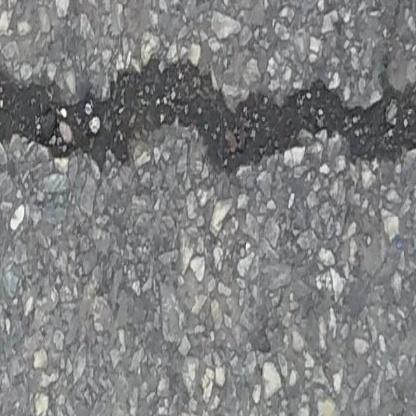Cracks: (0, 64, 416, 174)
